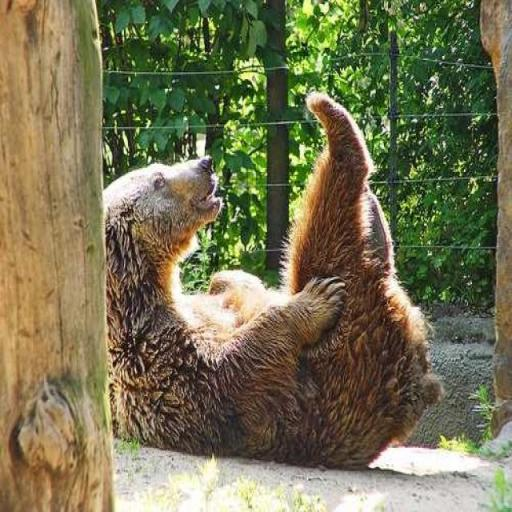Bear: (101, 90, 443, 469)
